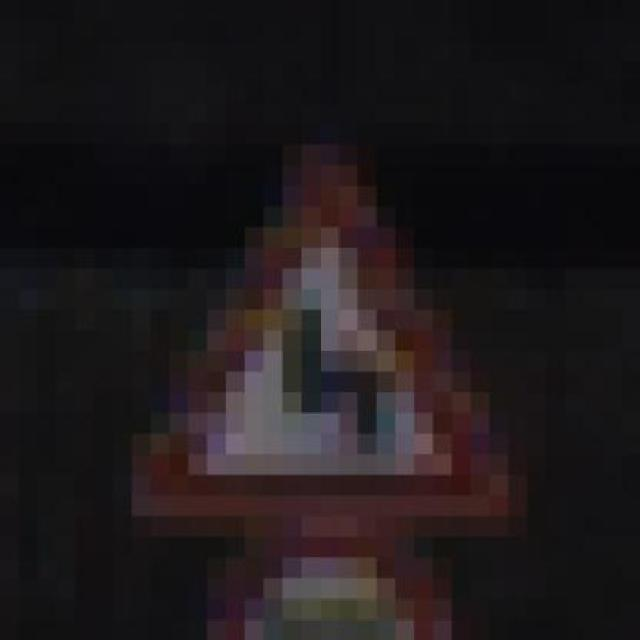Left Zig Zag Traffic: (75, 82, 528, 516)
